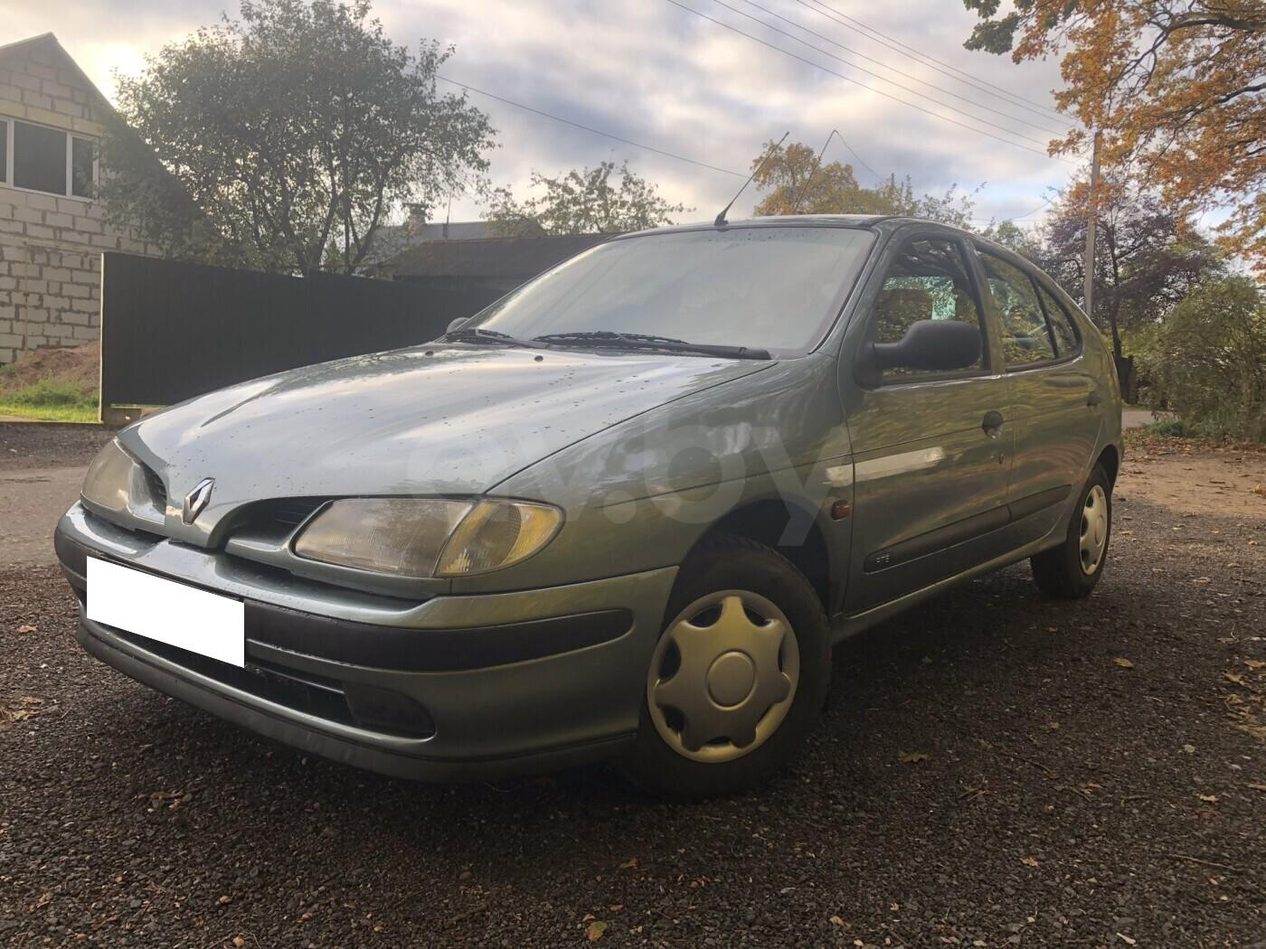Megane_1995-1999: (39, 190, 1141, 791)
